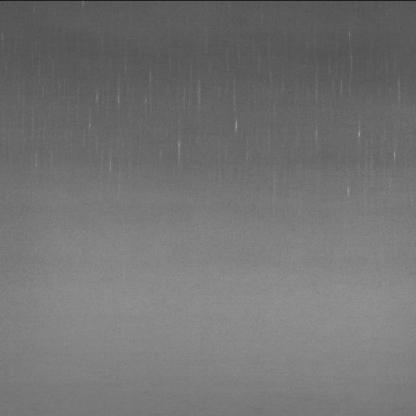waist_folding: (30, 33, 372, 198)
